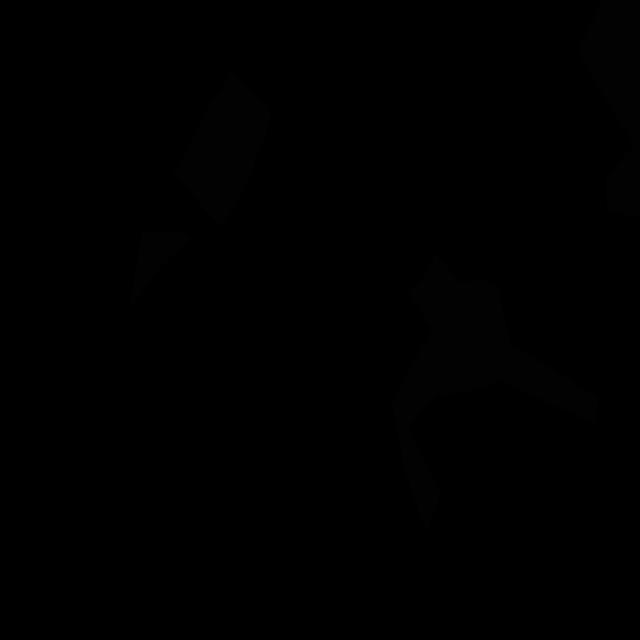cardboard: (392, 253, 598, 535), (173, 72, 272, 226), (578, 0, 640, 217), (128, 230, 194, 312)
